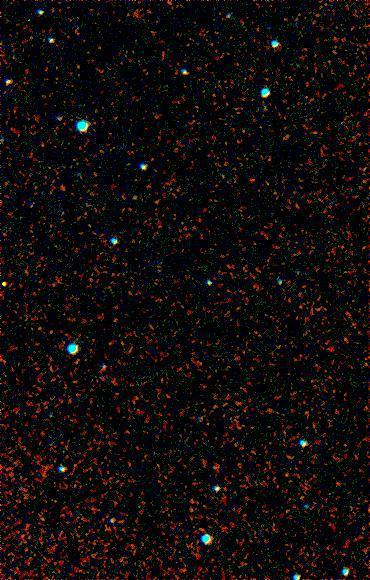star: (0, 269, 27, 299)
